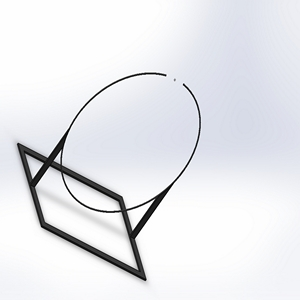circle: (16, 68, 203, 282)
